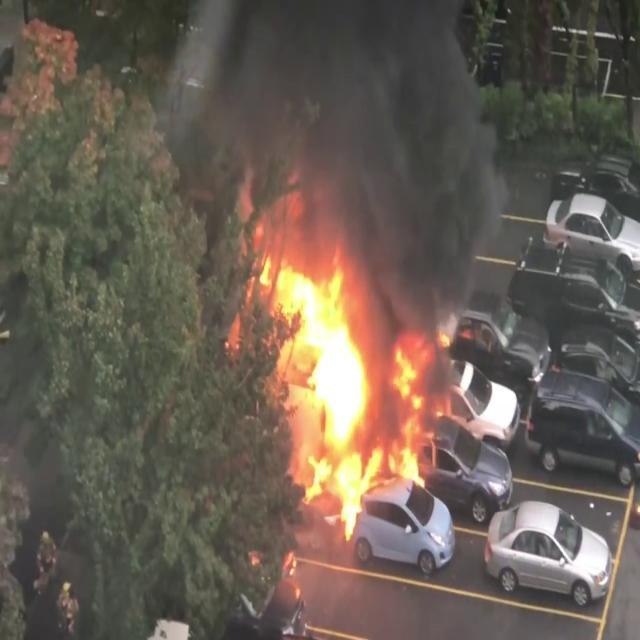Fire: (237, 242, 458, 524)
Smoke: (138, 0, 516, 310)
